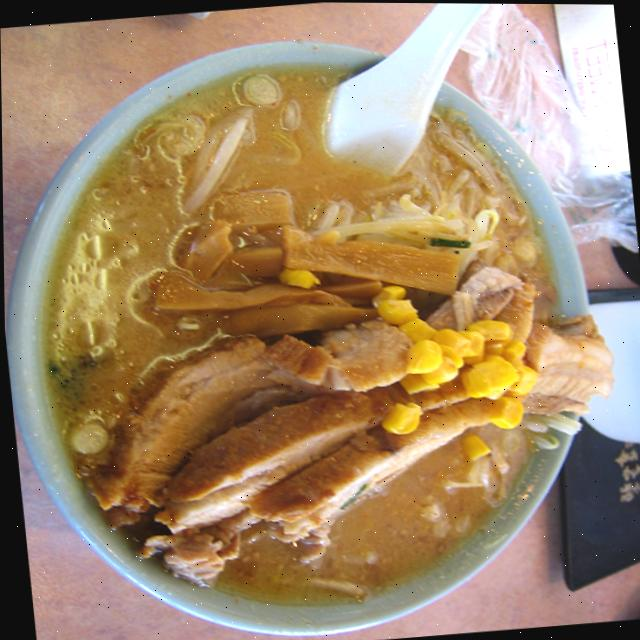面条主食: (14, 44, 614, 631)
